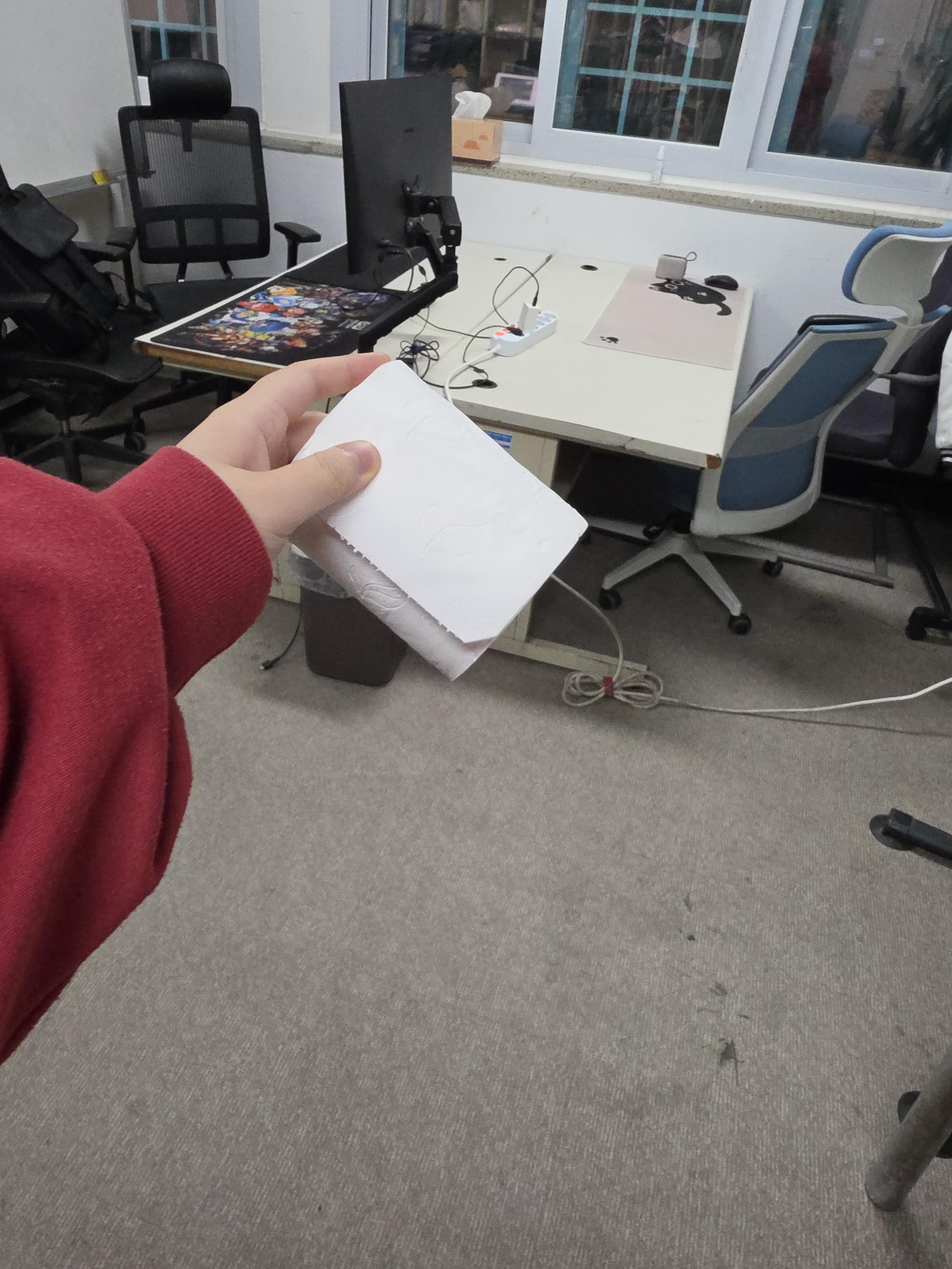tissue: (291, 359, 589, 681), (451, 90, 504, 164)
